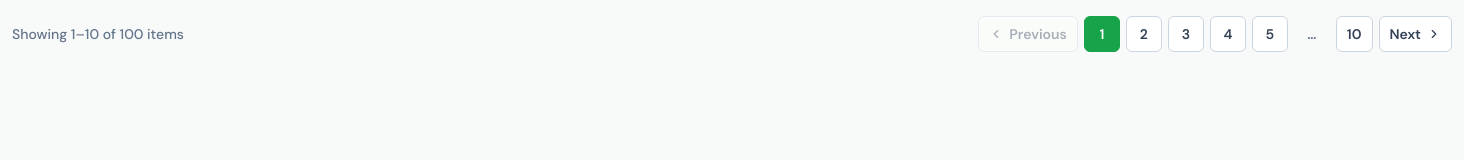
Scenario: Pagination Component › updates the selected page after a page option is tapped
Step 1. Click the button named "Go to page 2" → (1144, 34), box [1126,16,1162,52]
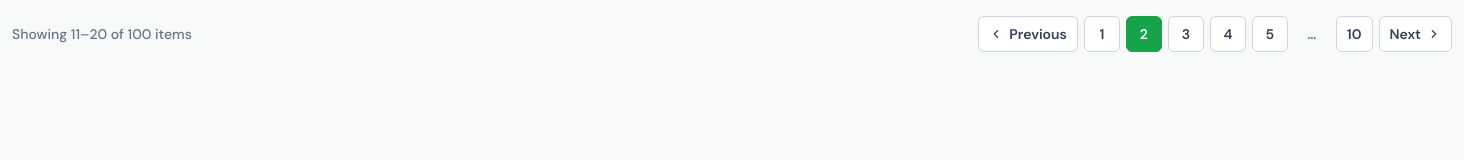
Check: the button named "Go to page 2" is marked as current, box [1126,16,1162,52]
Check: the button named "Go to page 2" has class "active", box [1126,16,1162,52]
Check: the button named "Go to page 1" does not have class "active", box [1084,16,1120,52]
